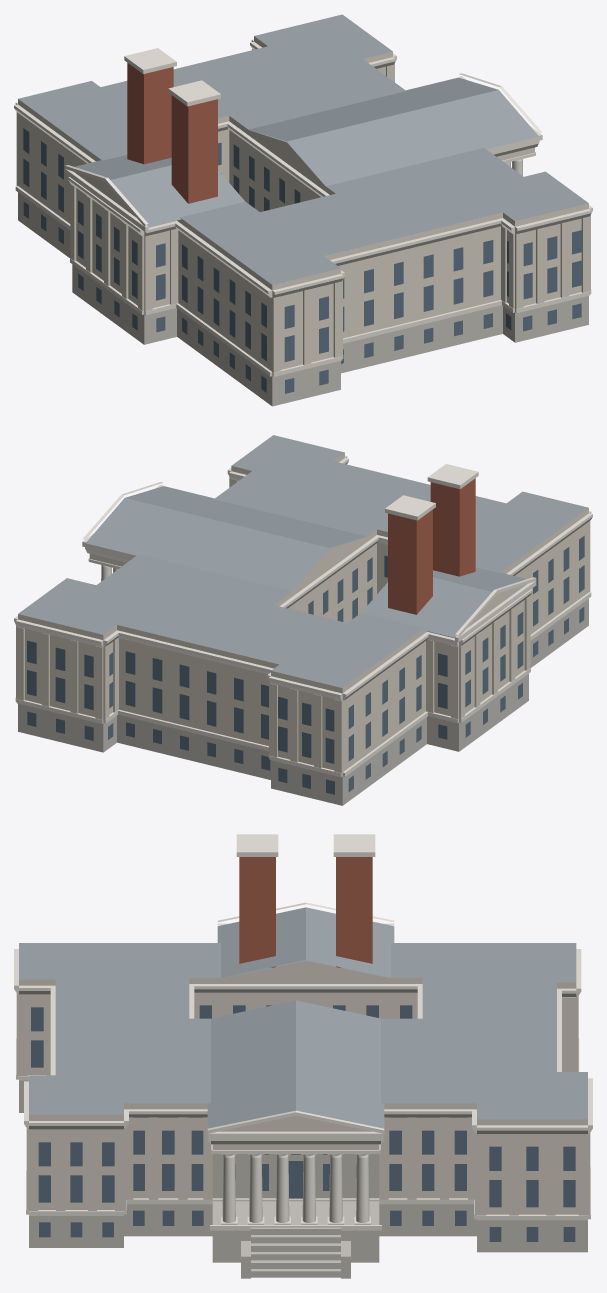
File: sf-old-mint.glb
3 renders of one model, top to bottom at view 1: azimuth 30°, elevation 25°; view 2: azimuth 150°, elevation 25°; view 3: azimuth 270°, elevation 25°, orthographic. The views are drawn at different scales.
Visible parts, largest first — view 1: Old San Francisco Mint; view 2: Old San Francisco Mint; view 3: Old San Francisco Mint.
Part boxes in pixels (box(x1,y1,x2,y2)): Old San Francisco Mint: box(14, 14, 592, 406); Old San Francisco Mint: box(14, 435, 592, 805); Old San Francisco Mint: box(14, 834, 592, 1278).
Bounding box in the file's own units: 63 × 33 × 69.4.
